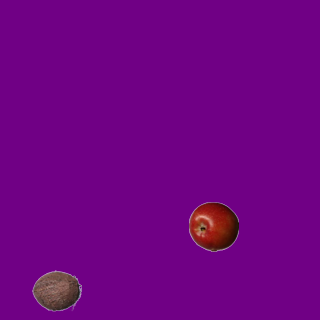Apple Braeburn: (188, 201, 238, 251)
Cocos: (31, 265, 81, 315)
